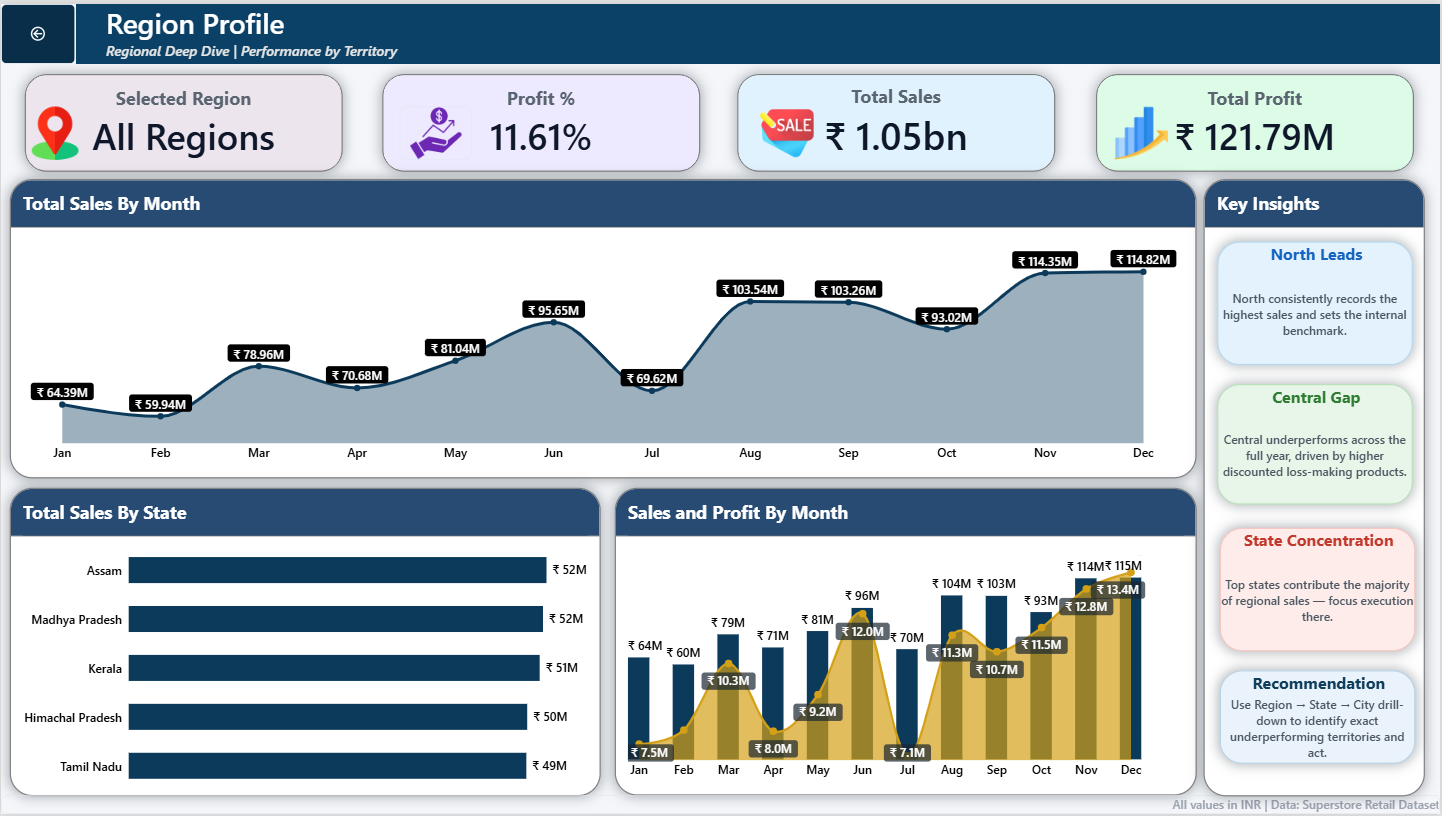

The dashboard page shown, as its layout file describes it:
{"tool":"powerbi","page":{"name":"Region Profile","canvas":[1920,1080],"ordinal":5},"visuals":[{"type":"cardVisual","fields":{"Data":["Users.Selected Region"]},"box":[31.1,93.3,424,130],"z":0},{"type":"cardVisual","fields":{"Data":["Orders.Total Sales"]},"box":[982.4,93.3,424,130],"z":1000},{"type":"cardVisual","fields":{"Data":["Orders.Total Profit"]},"box":[1459.6,93.3,424,130],"z":2000},{"type":"cardVisual","fields":{"Data":["Orders.Profit %"]},"box":[508.3,93.3,424,130],"z":3000},{"type":"stackedAreaChart","title":"Total Sales By Month","fields":{"Category":["DateTable.Month"],"Y":["Orders.Total Sales"]},"box":[10.9,233.2,1582.4,399.5],"z":4000},{"type":"clusteredBarChart","title":"Total Sales By Top 5 State","fields":{"Category":["Orders.State"],"Y":["Orders.Total Sales"]},"box":[10.9,645.1,788,411],"z":5000},{"type":"lineClusteredColumnComboChart","title":"Sales and Profit By Month","fields":{"Category":["DateTable.Month"],"Y":["Orders.Total Sales"],"Y2":["Orders.Total Profit"]},"box":[817.6,645.1,775.7,410.4],"z":6000},{"type":"actionButton","box":[0,0,99.4,80.2],"z":7000},{"type":"textbox","box":[99.4,0,1820,76],"z":8000},{"type":"textbox","box":[0,1055.4,1919.7,24.9],"z":9000},{"type":"shape","title":"Key Insights ","box":[1604.2,233.2,295,823],"z":10000},{"type":"image","box":[1008.8,136.8,79.3,71.5],"z":11000},{"type":"image","box":[1476.7,136.8,87,71.5],"z":12000},{"type":"image","box":[531.6,136.8,96.4,71.5],"z":13000},{"type":"image","box":[31.1,136.8,80.8,71.5],"z":13001},{"type":"shape","title":"North Leads","box":[1621.3,317.1,261,165],"z":13002},{"type":"shape","title":"Central Gap","box":[1621.3,506.7,261,161],"z":13003},{"type":"shape","title":"State Concentration","box":[1624.4,697.9,261,165],"z":13004},{"type":"shape","title":"Recommendation","box":[1624.4,887.6,261,125],"z":13005}]}

Visuals, with their boxes in screenshot pixels (x1, y1, x2, y2), scaled from the page's 1920x1080 canvas onto the 1442x816 screenshot:
cardVisual - Users.Selected Region: box=[23, 70, 342, 169]
cardVisual - Orders.Total Sales: box=[738, 70, 1056, 169]
cardVisual - Orders.Total Profit: box=[1096, 70, 1415, 169]
cardVisual - Orders.Profit %: box=[382, 70, 700, 169]
"Total Sales By Month" stackedAreaChart: box=[8, 176, 1197, 478]
"Total Sales By Top 5 State" clusteredBarChart: box=[8, 487, 600, 798]
"Sales and Profit By Month" lineClusteredColumnComboChart: box=[614, 487, 1197, 797]
actionButton: box=[0, 0, 75, 61]
textbox: box=[75, 0, 1441, 57]
textbox: box=[0, 797, 1441, 815]
"Key Insights " shape: box=[1205, 176, 1426, 798]
image: box=[758, 103, 817, 157]
image: box=[1109, 103, 1174, 157]
image: box=[399, 103, 472, 157]
image: box=[23, 103, 84, 157]
"North Leads" shape: box=[1218, 240, 1414, 364]
"Central Gap" shape: box=[1218, 383, 1414, 504]
"State Concentration" shape: box=[1220, 527, 1416, 652]
"Recommendation" shape: box=[1220, 671, 1416, 765]
